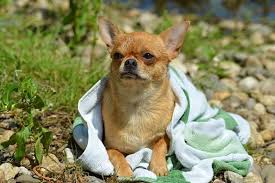chihuahua: (72, 10, 210, 176)
